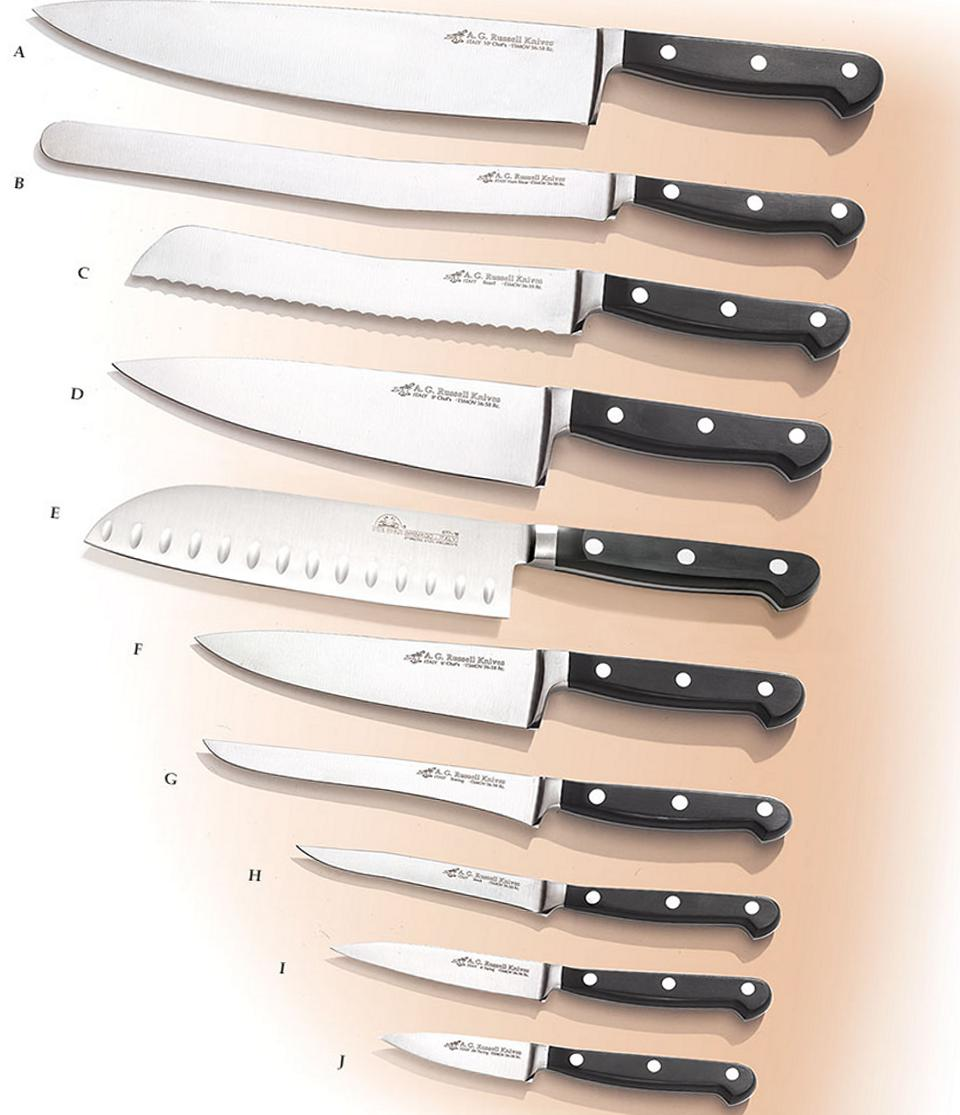knife: (24, 1, 894, 130), (113, 352, 835, 488), (192, 625, 809, 737), (204, 737, 796, 847), (297, 840, 780, 942), (330, 942, 772, 1018), (380, 1033, 757, 1101)
